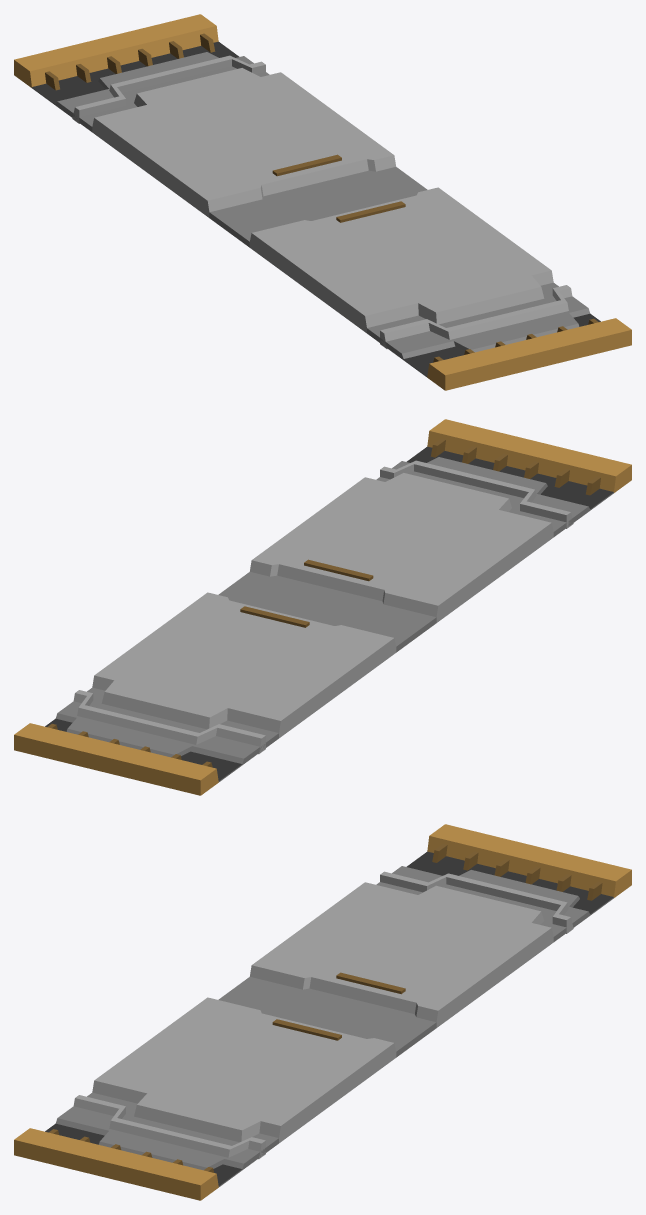
The model's file is floortile_double.046_lev3.glb.
3 views of the same model, one above another, from view 1: azimuth 30°, elevation 25°; view 2: azimuth 150°, elevation 25°; view 3: azimuth 330°, elevation 25° (orthographic).
Visible parts, largest first — view 1: floortile_double.046_lev3; view 2: floortile_double.046_lev3; view 3: floortile_double.046_lev3.
Boxes of the visible parts, <box> form: floortile_double.046_lev3: <box>14,14,631,390</box>; floortile_double.046_lev3: <box>14,419,631,795</box>; floortile_double.046_lev3: <box>14,824,631,1200</box>.
Bounding box in the file's own units: 1 × 0.1369 × 4.
